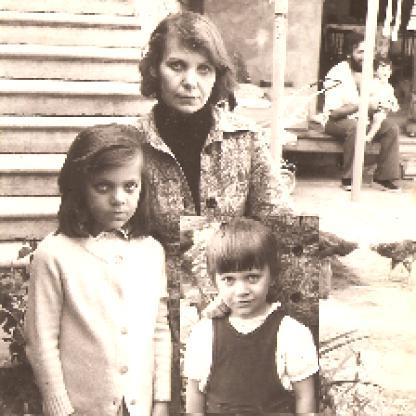child: (25, 122, 176, 416), (181, 217, 321, 415), (348, 59, 402, 145)
